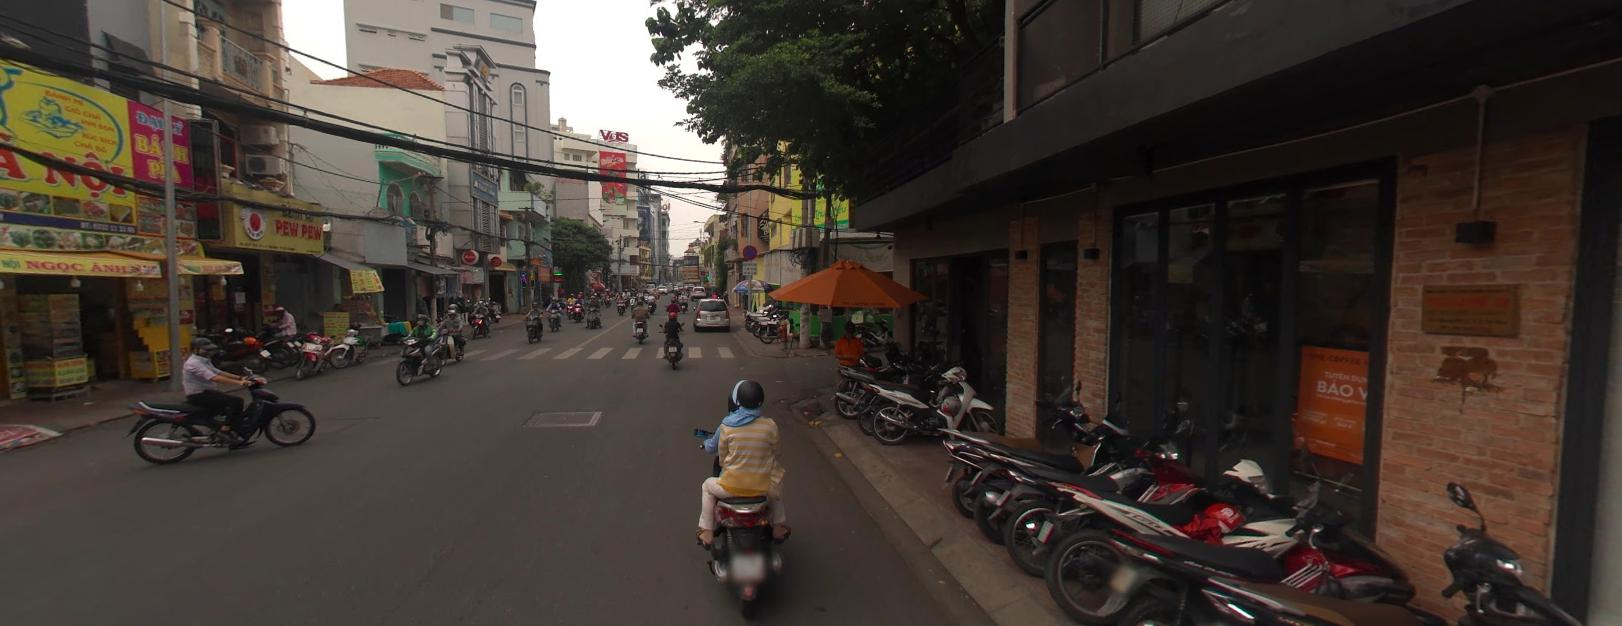Cam dung va do: (742, 242, 757, 257)
